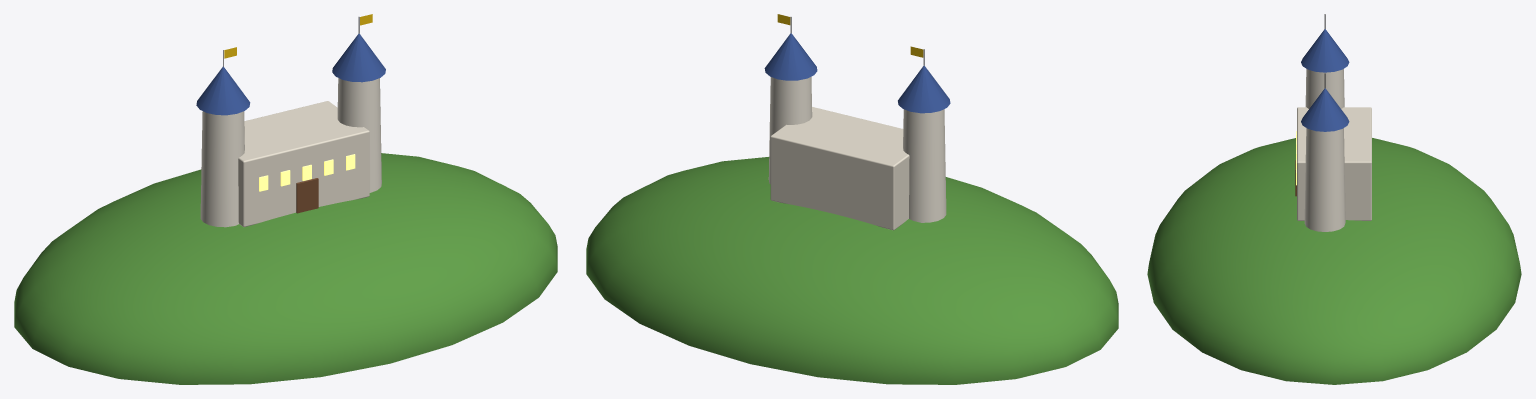
Rendered from chateau.glb.
3 renders of one model, left to right at view 1: azimuth 30°, elevation 25°; view 2: azimuth 150°, elevation 25°; view 3: azimuth 270°, elevation 25°, orthographic. The views are drawn at different scales.
Size of the model in its own units: 56 by 27.2 by 40.
9 materials, 2 textured.
